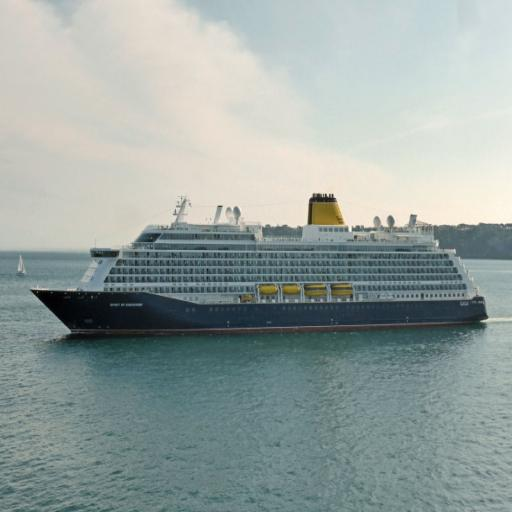cruises: (30, 185, 495, 338)
